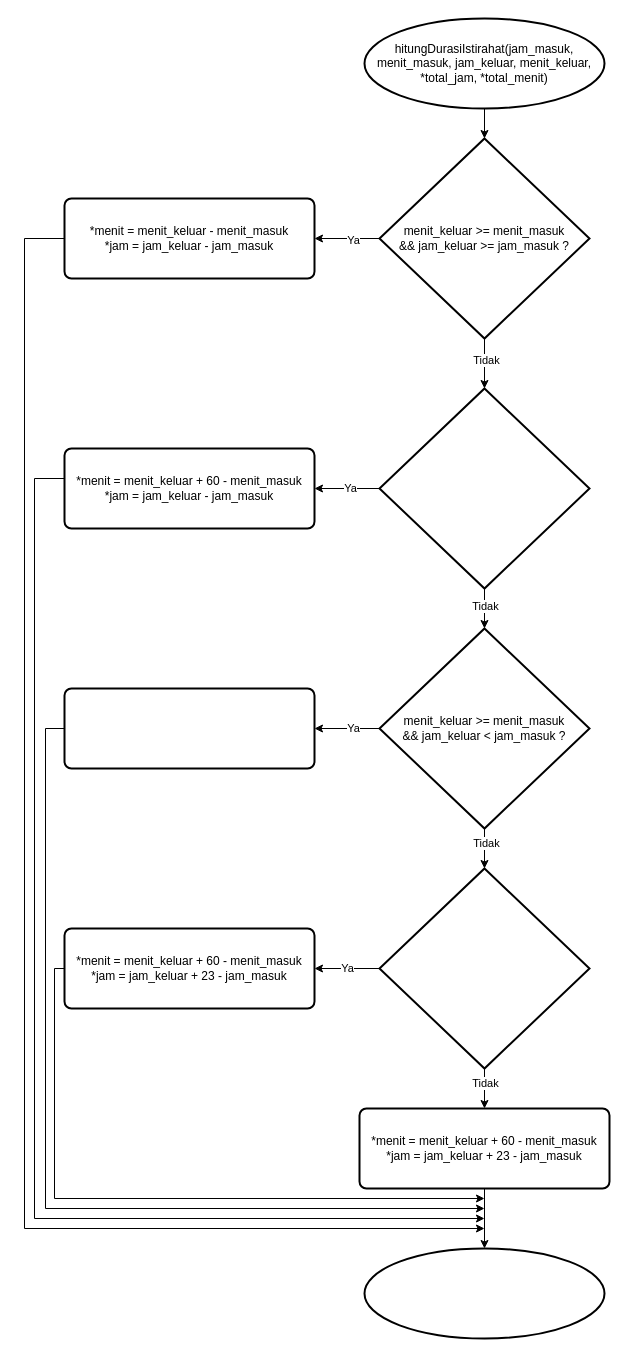
This 628x1356 diagram has some shape labels left out. The shapes that lost their labels are listed below. From the top down, each one's box as (x1, y1, x2, y2) in pixels, then its label:
(378, 387, 590, 589): menit_keluar < menit_masuk && jam_keluar >= jam_masuk ?
(63, 687, 315, 769): *menit = menit_keluar - menit_masuk *jam = jam_keluar + 24 - jam_masuk
(378, 867, 590, 1069): menit_keluar < menit_masuk && jam_keluar < jam_masuk ?
(363, 1247, 605, 1339): return *jam, *menit
